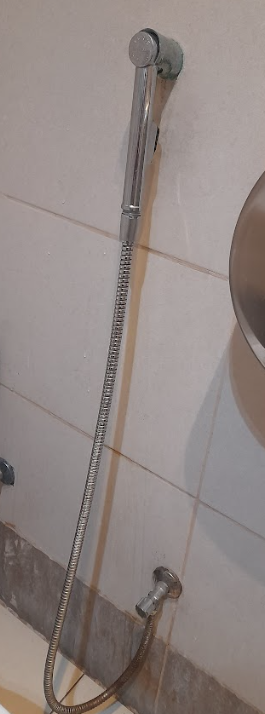Toilet: (22, 20, 218, 708)
